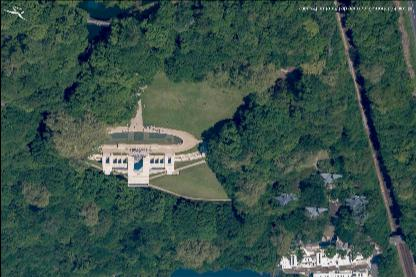F22: (274, 192, 298, 206), (344, 194, 368, 208)
RQ4: (319, 171, 343, 185), (304, 206, 327, 218)
